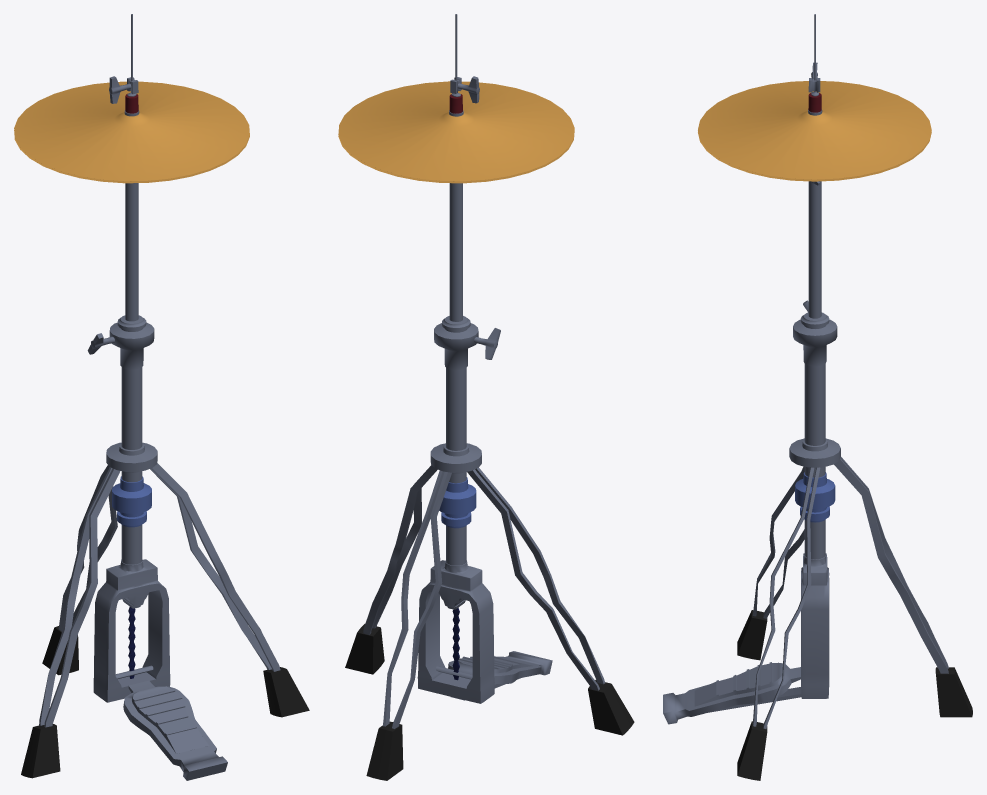
The model's file is hit_hat_FBX.fbx.
3 renders of one model, left to right at view 1: azimuth 30°, elevation 25°; view 2: azimuth 150°, elevation 25°; view 3: azimuth 270°, elevation 25°, orthographic.
Parts seen in each view (by area): view 1: hit_hat_LOW; view 2: hit_hat_LOW; view 3: hit_hat_LOW.
Part boxes in pixels (x1,y1,x2,y2): hit_hat_LOW: (14,14,309,780); hit_hat_LOW: (338,14,634,780); hit_hat_LOW: (663,14,972,780).
Size of the model in its own units: 38.76 by 94.12 by 37.71.
